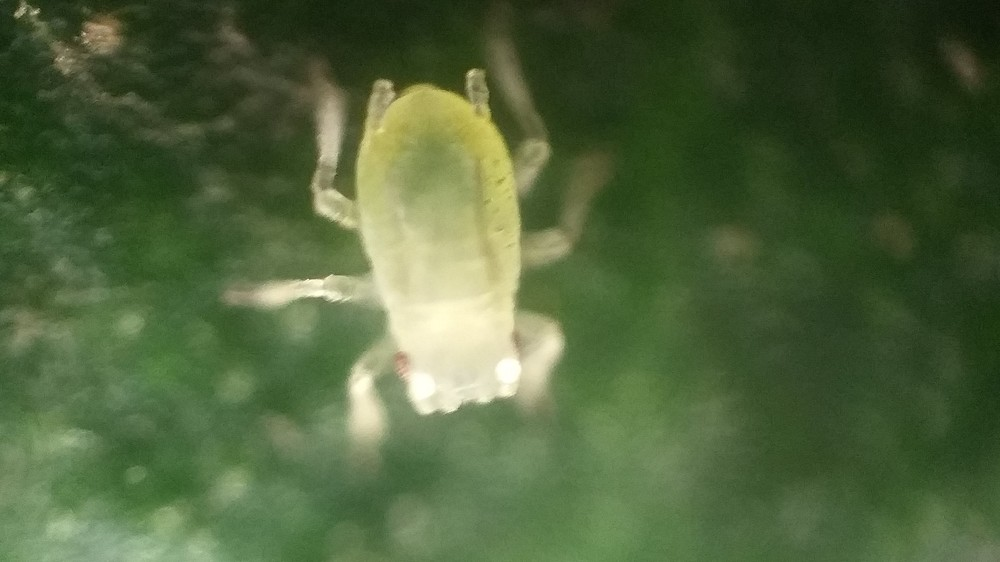Pulgon: (261, 54, 640, 478)
